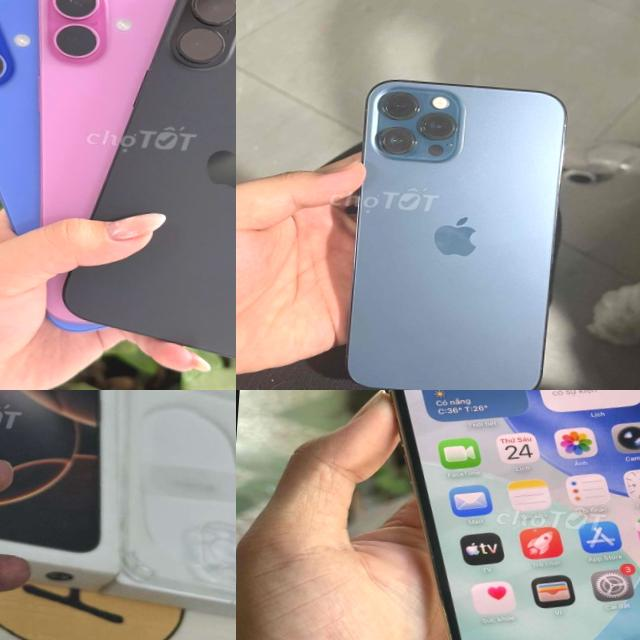gen_12_13: (345, 390, 640, 640), (343, 75, 570, 390)
gen_16: (57, 0, 236, 374)
